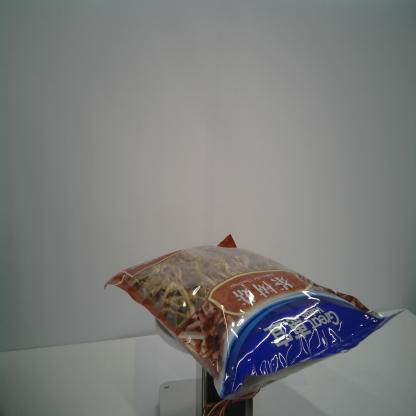Dried Food: (104, 233, 408, 402)
